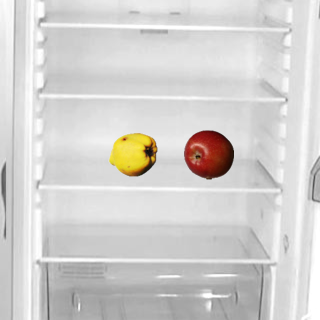Apple Braeburn: (183, 129, 233, 179)
Quince: (107, 129, 157, 179)
